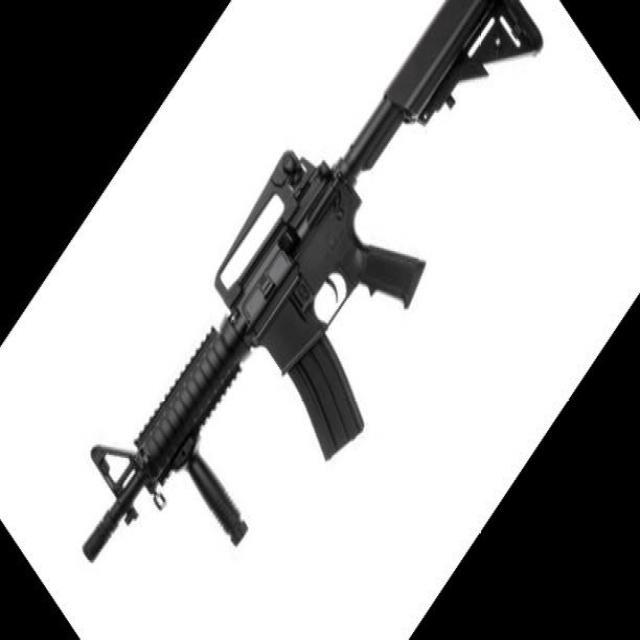weapon: (82, 1, 544, 564)
